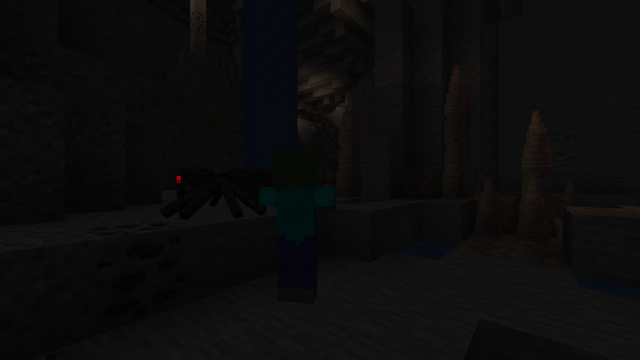araignees: (166, 161, 259, 221)
zombies: (266, 152, 328, 313)
